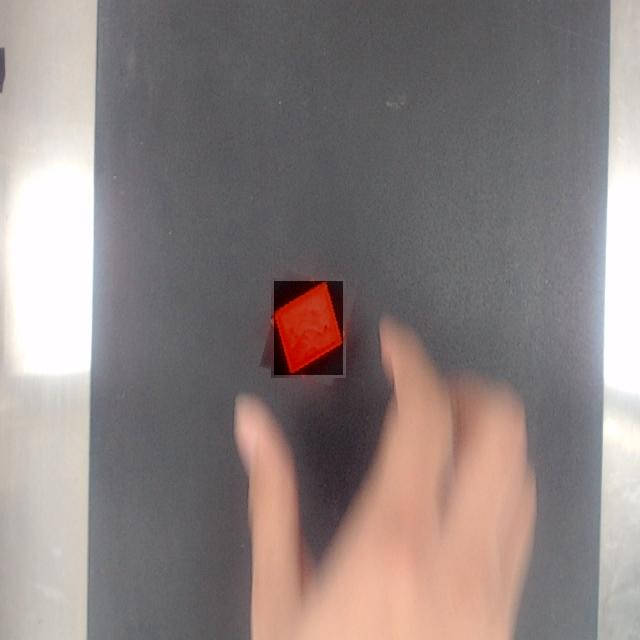Rojo: (274, 282, 343, 375)
